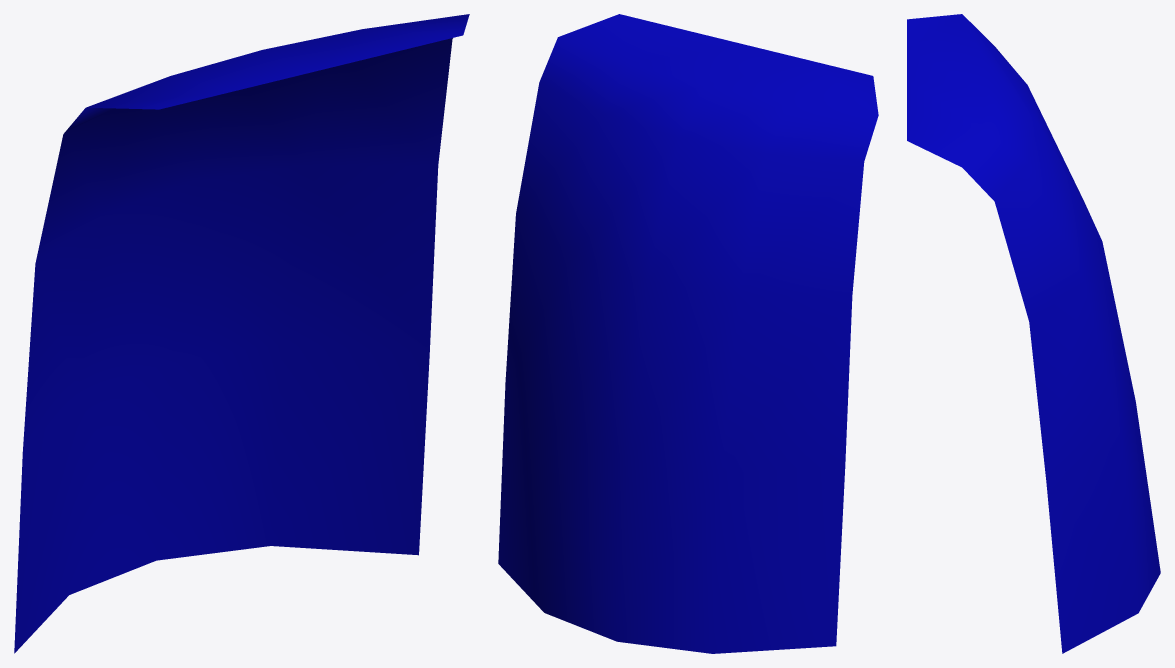
The model's file is f_cape_short.dae.
3 renders of one model, left to right at view 1: azimuth 30°, elevation 25°; view 2: azimuth 150°, elevation 25°; view 3: azimuth 270°, elevation 25°, orthographic. The views are drawn at different scales.
Visible parts, largest first — view 1: f_cape_short_PIVOT; view 2: f_cape_short_PIVOT; view 3: f_cape_short_PIVOT.
Boxes of the visible parts, x1,y1,x2,y2 form: f_cape_short_PIVOT: [14, 14, 469, 653]; f_cape_short_PIVOT: [498, 14, 878, 653]; f_cape_short_PIVOT: [907, 14, 1160, 653].
Bounding box in the file's own units: 0.7658 × 0.5044 × 1.08.
